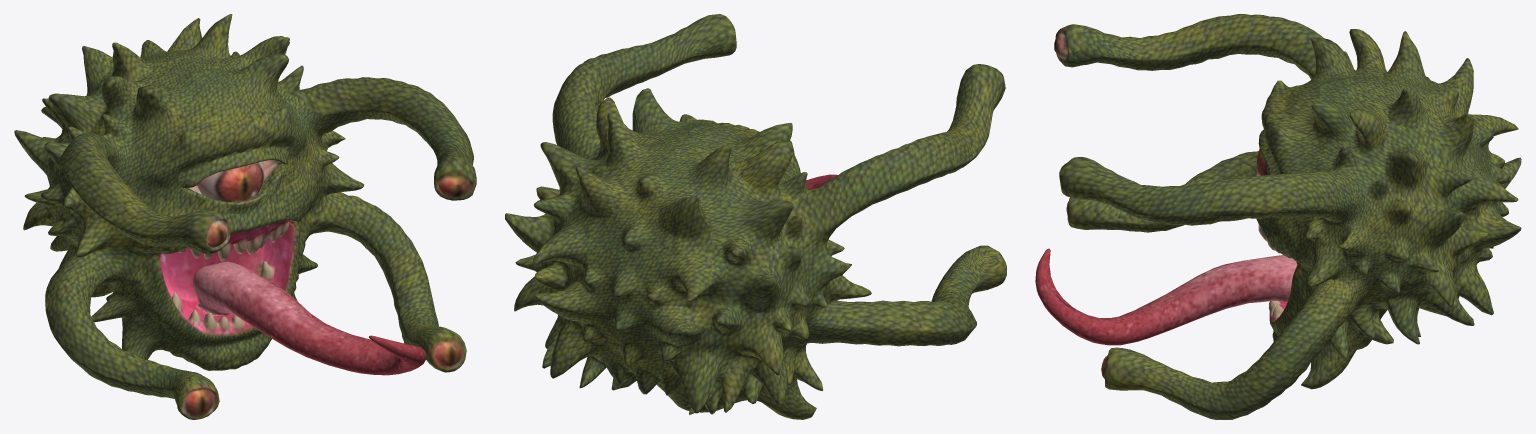
File: MZ4250 - Spectator 2.glb
3 renders of one model, left to right at view 1: azimuth 30°, elevation 25°; view 2: azimuth 150°, elevation 25°; view 3: azimuth 270°, elevation 25°, orthographic. The views are drawn at different scales.
Parts seen in each view (by area): view 1: default; view 2: default; view 3: default.
Boxes of the visible parts, <box> form: default: <box>14,14,476,419</box>; default: <box>505,14,1006,419</box>; default: <box>1035,14,1521,419</box>.
Bounding box in the file's own units: 1.22 × 0.9118 × 1.36.
Materials: 1 (1 with a texture image).
